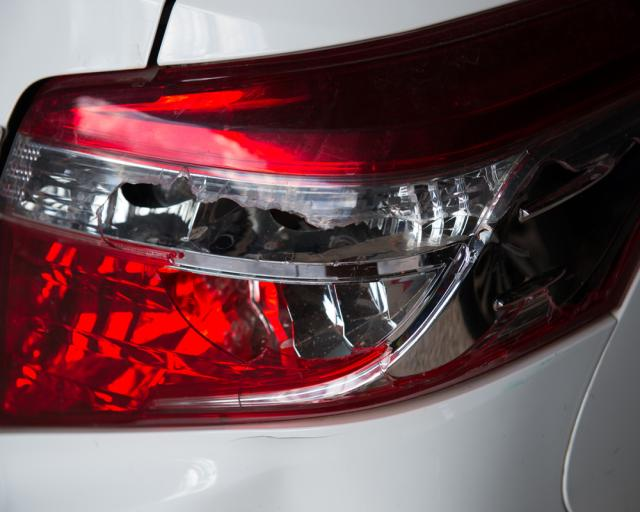lamp broken: (0, 0, 640, 428)
